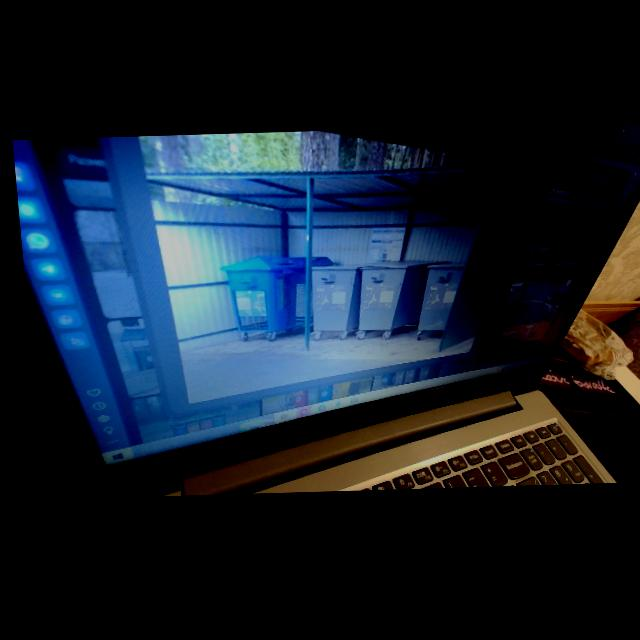Trash_Can_Closed: (352, 262, 442, 332), (303, 266, 359, 335), (411, 266, 460, 333)
Trash_Can_Empty: (216, 257, 294, 334)
